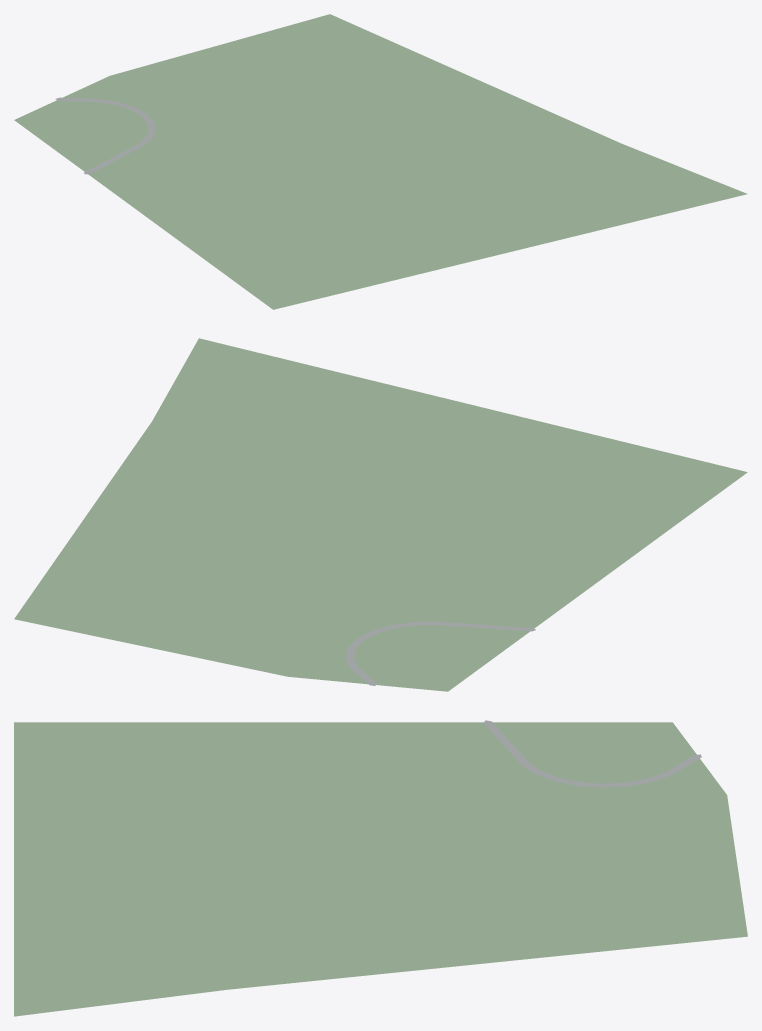
Rendered from -3_10-known-coarse.glb.
The picture shows the model from 3 angles, top to bottom: view 1: azimuth 30°, elevation 25°; view 2: azimuth 150°, elevation 25°; view 3: azimuth 270°, elevation 25°; orthographic projection. The views are drawn at different scales.
Size of the model in its own units: 230 by 0.1 by 241.
